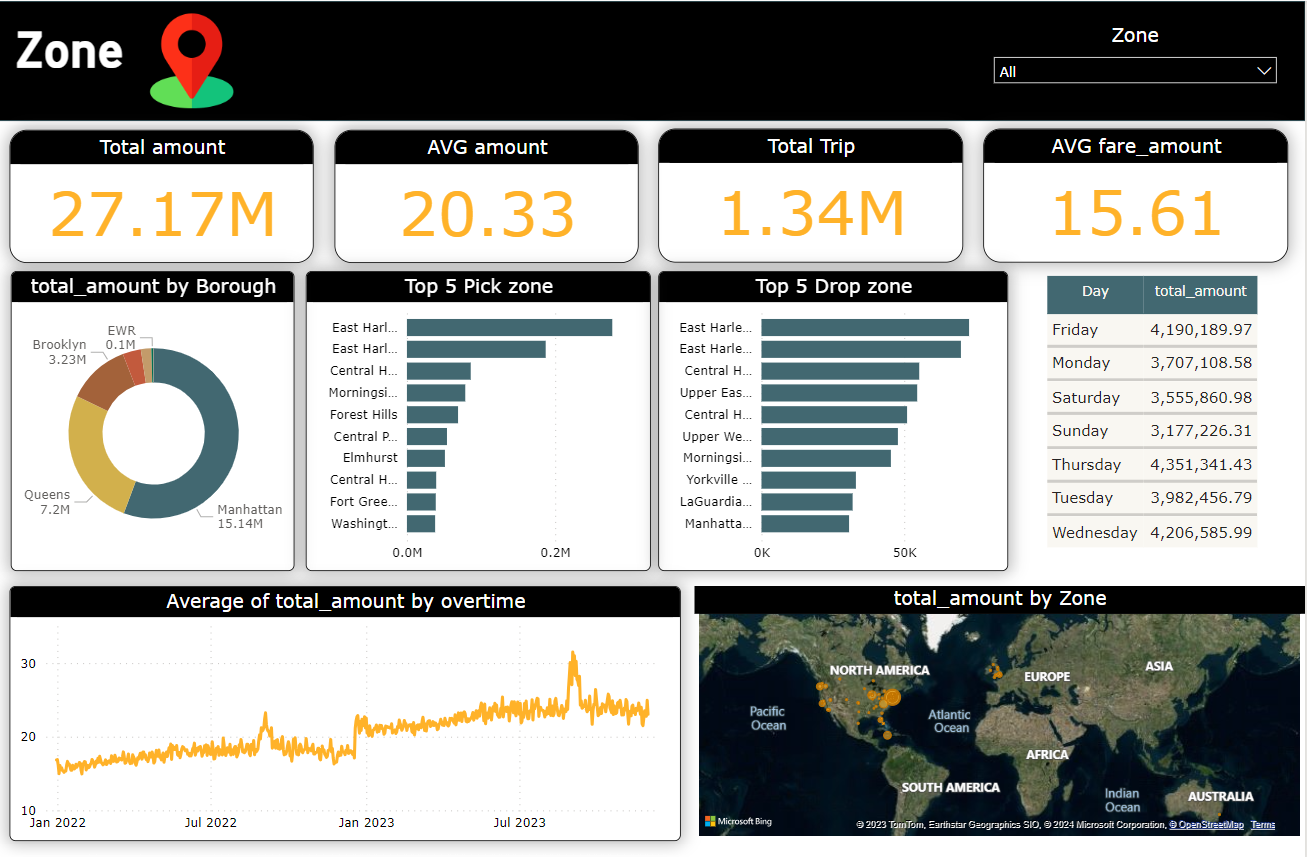

What the dashboard file says about the page in this screenshot:
{"tool":"powerbi","page":{"name":"Location","canvas":[1280,850],"ordinal":2},"visuals":[{"type":"shape","box":[0,0,1280.2,117.4],"z":0},{"type":"textbox","box":[13.5,14.5,277.6,88.1],"z":1000},{"type":"image","box":[116.2,7.3,149.2,102.7],"z":2000},{"type":"card","title":"Total amount","fields":{"Values":["Sum(public Fact_table.total_amount)"]},"box":[12.8,125.6,297.7,130.2],"z":3000},{"type":"card","title":"AVG amount","fields":{"Values":["Avg(public Fact_table.total_amount)"]},"box":[330,125.6,297.7,130.2],"z":4000},{"type":"card","title":"Total Trip","fields":{"Values":["CountNonNull(public Fact_table.Vendor_ID)"]},"box":[647.3,125,298.2,131.1],"z":5000},{"type":"card","title":"AVG fare_amount","fields":{"Values":["Avg(public Fact_table.fare_amount)"]},"box":[965.1,125,298.2,131.1],"z":6000},{"type":"slicer","title":"Zone","fields":{"Values":["public DimdropLocation.Zone"]},"box":[965,22,297.2,72.2],"z":7000},{"type":"lineChart","title":"Average of total_amount by overtime","fields":{"Category":["public DimDate.lpep_pickup_datetime.Variation.Date Hierarchy.Year","public DimDate.lpep_pickup_datetime.Variation.Date Hierarchy.Quarter","public DimDate.lpep_pickup_datetime.Variation.Date Hierarchy.Month","public DimDate.lpep_pickup_datetime.Variation.Date Hierarchy.Day"],"Y":["Avg(public Fact_table.total_amount)"]},"box":[12.2,572.4,656.8,249.5],"z":8000},{"type":"map","fields":{"Category":["public DimdropLocation.Zone"],"Size":["Sum(public Fact_table.total_amount)"]},"box":[682.4,572.4,598.1,249.5],"z":9000},{"type":"barChart","title":"Top 5 Drop zone ","fields":{"Category":["public DimPickLocation.Zone","public DimdropLocation.Zone"],"Y":["CountNonNull(public Fact_table.Vendor_ID)"]},"box":[647,264.2,342.4,293.5],"z":9002},{"type":"barChart","title":"Top 5 Pick zone ","fields":{"Category":["public DimdropLocation.Zone"],"Y":["CountNonNull(public Fact_table.Vendor_ID)"]},"box":[302.1,264.2,337.6,293.5],"z":9003},{"type":"donutChart","fields":{"Category":["public DimPickLocation.Borough"],"Y":["Sum(public Fact_table.total_amount)"]},"box":[13.5,264.2,277.6,293.5],"z":9004},{"type":"tableEx","fields":{"Values":["public DimDate.DayName","Sum(public Fact_table.total_amount)"]},"box":[1021.2,264.2,221.4,282.5],"z":9005}]}

Visuals, with their boxes in screenshot pixels (x1, y1, x2, y2), scaled from the page's 1280x850 canvas onto the 1307x857 screenshot:
shape: [left=0, top=0, right=1306, bottom=118]
textbox: [left=14, top=15, right=297, bottom=103]
image: [left=119, top=7, right=271, bottom=111]
"Total amount" card: [left=13, top=127, right=317, bottom=258]
"AVG amount" card: [left=337, top=127, right=641, bottom=258]
"Total Trip" card: [left=661, top=126, right=965, bottom=258]
"AVG fare_amount" card: [left=985, top=126, right=1290, bottom=258]
"Zone" slicer: [left=985, top=22, right=1289, bottom=95]
"Average of total_amount by overtime" lineChart: [left=12, top=577, right=683, bottom=829]
map - public DimdropLocation.Zone x Sum(public Fact_table.total_amount): [left=697, top=577, right=1306, bottom=829]
"Top 5 Drop zone " barChart: [left=661, top=266, right=1010, bottom=562]
"Top 5 Pick zone " barChart: [left=308, top=266, right=653, bottom=562]
donutChart - public DimPickLocation.Borough x Sum(public Fact_table.total_amount): [left=14, top=266, right=297, bottom=562]
tableEx - public DimDate.DayName x Sum(public Fact_table.total_amount): [left=1043, top=266, right=1269, bottom=551]
